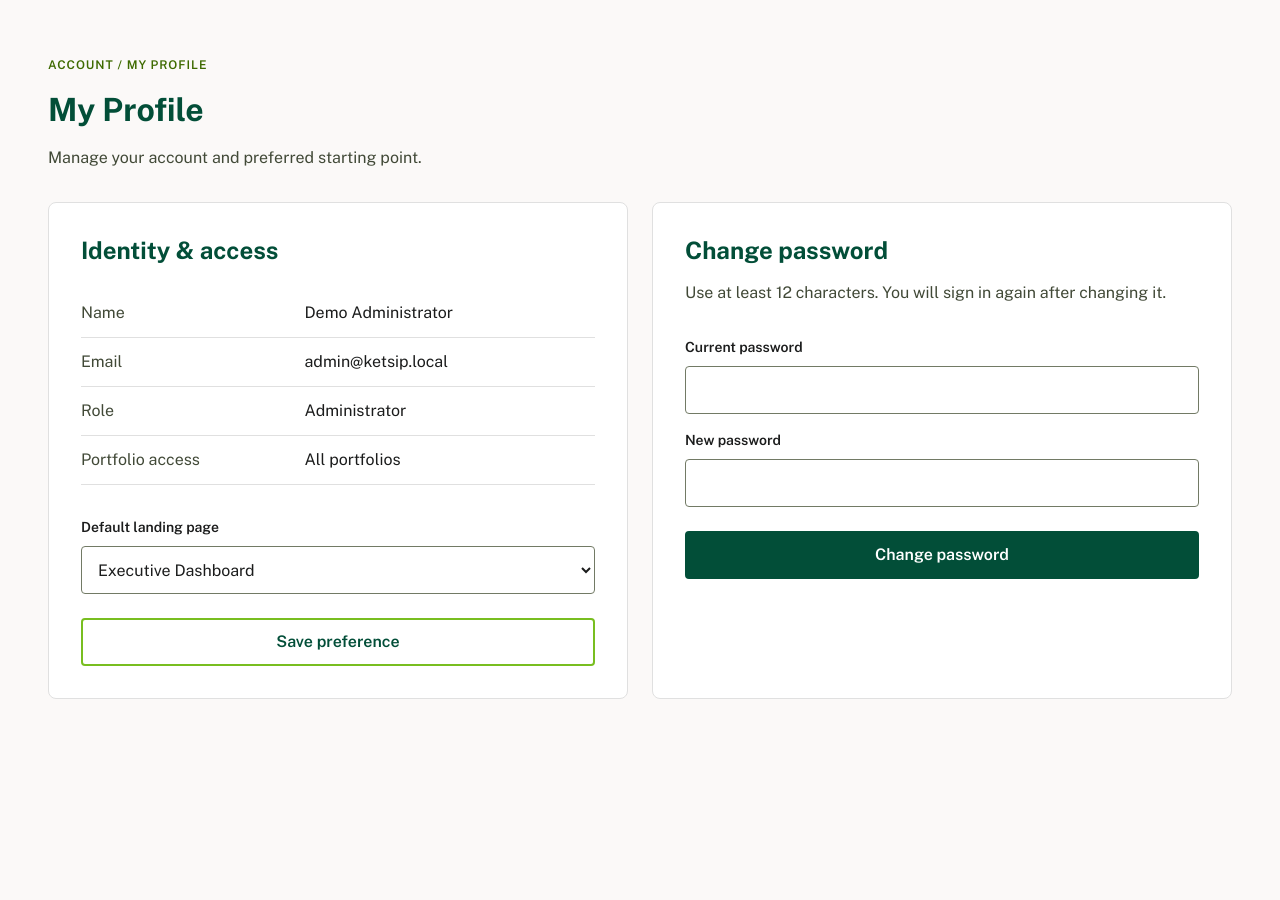
Test: identity screens › saves a landing preference and reports password errors
Select "Application Repository" in the dropdown labelled "Default landing page" at [338, 570], box [81,546,595,594]
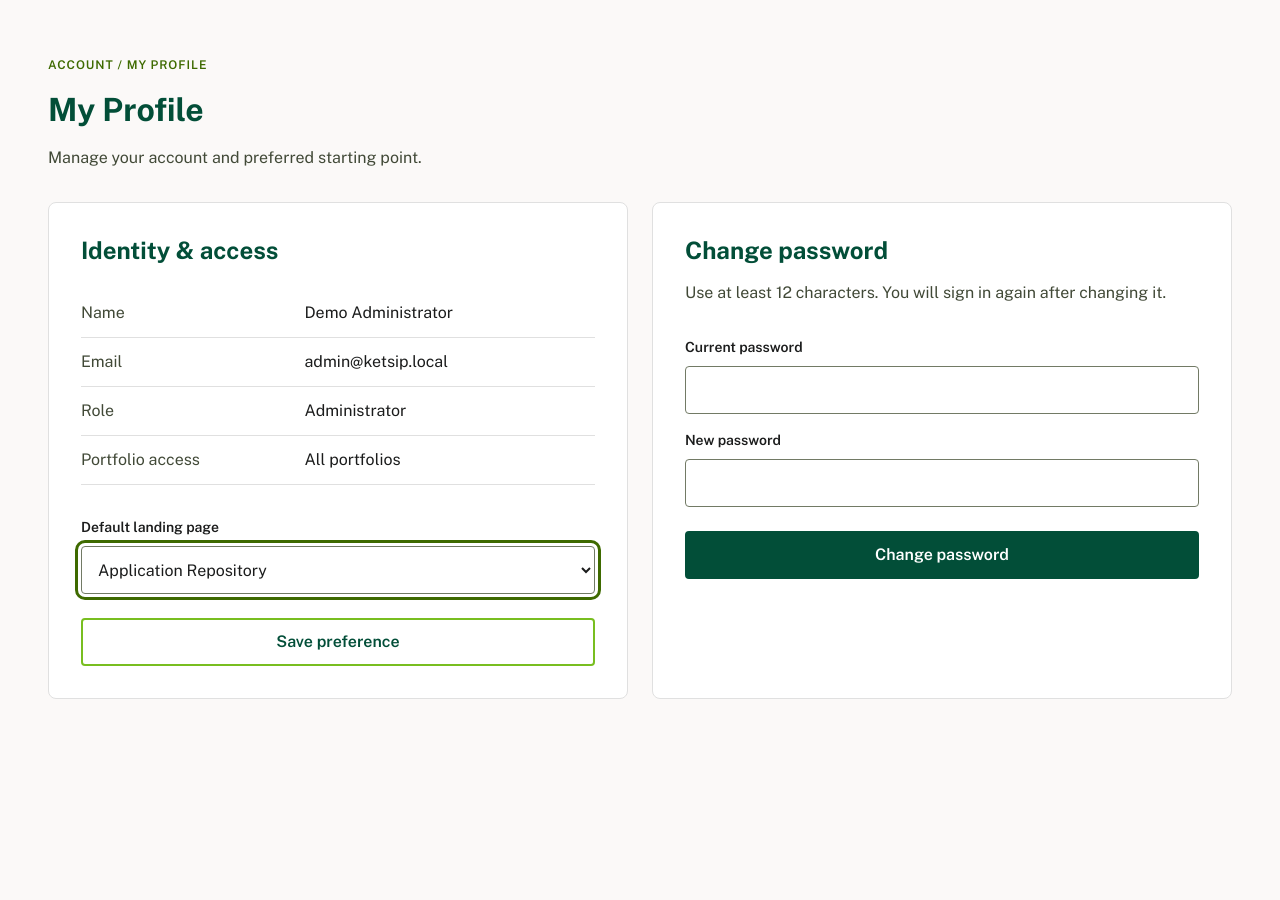
Click the button "Save preference" at [338, 642], box [81,618,595,666]
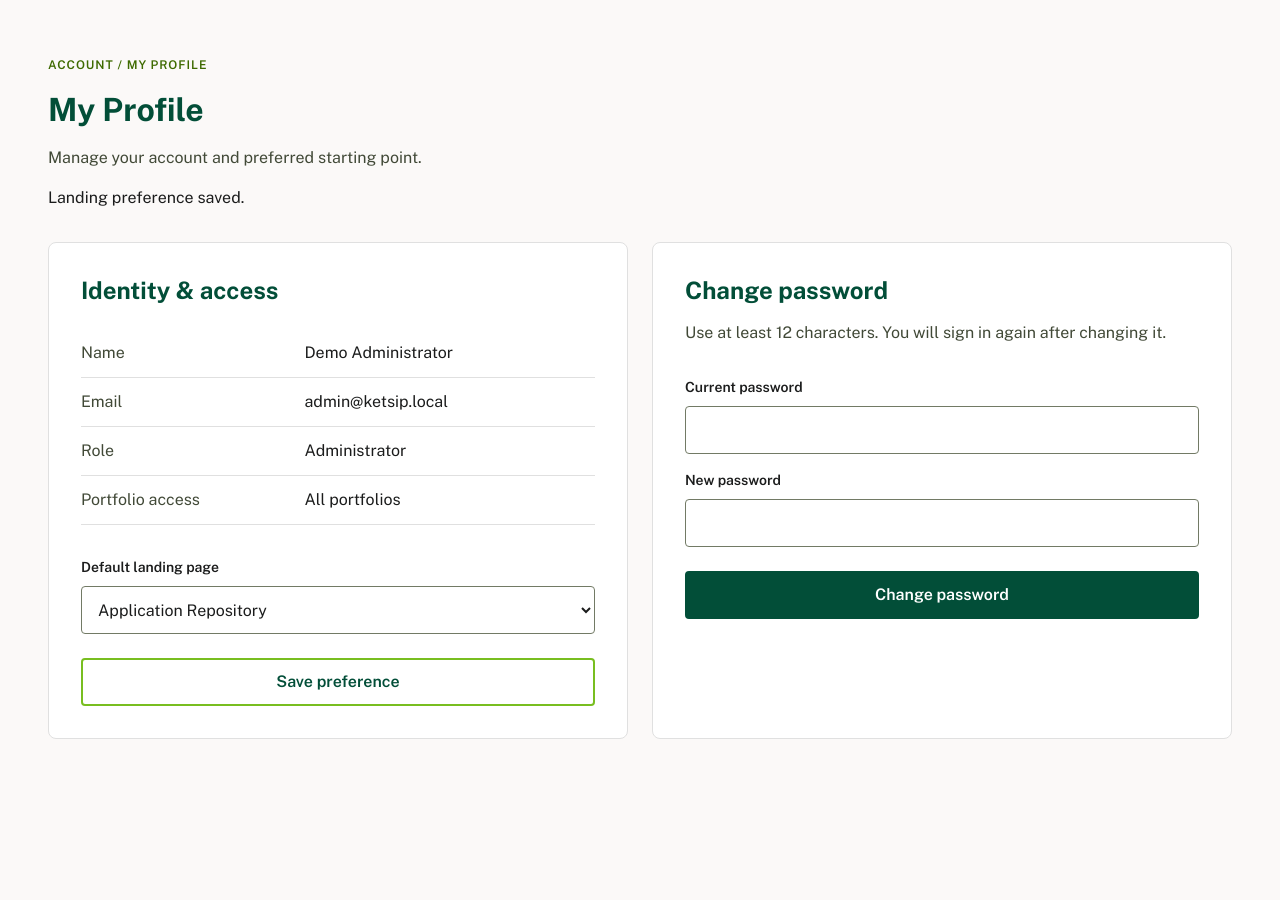
Expected: the message shows "Landing preference saved", [48,188,244,207]
Type "bad" into the password field labelled "Current password" at [942, 430], box [685,406,1199,454]
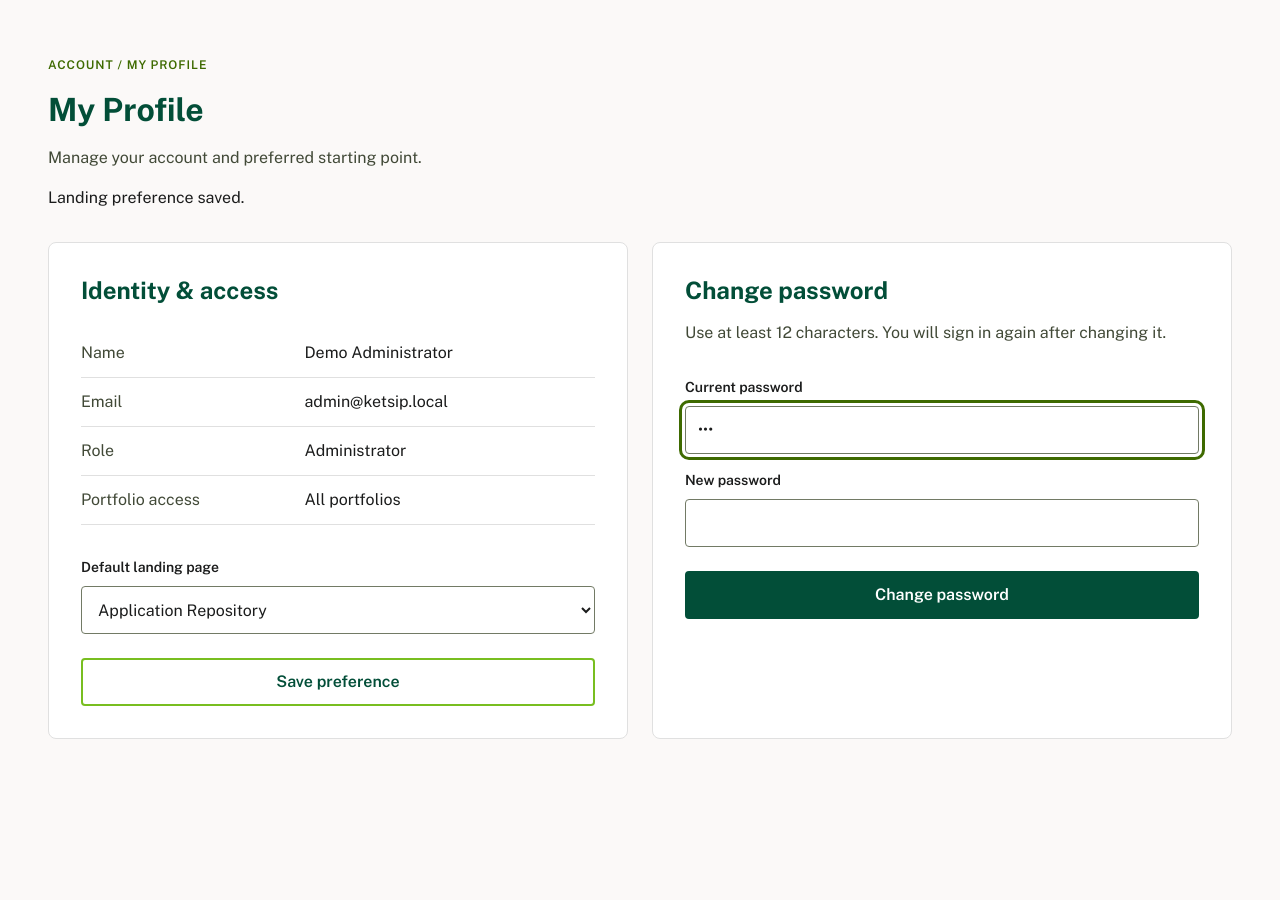
Type "NewPassword123!" into the password field labelled "New password" at [942, 523], box [685,499,1199,547]
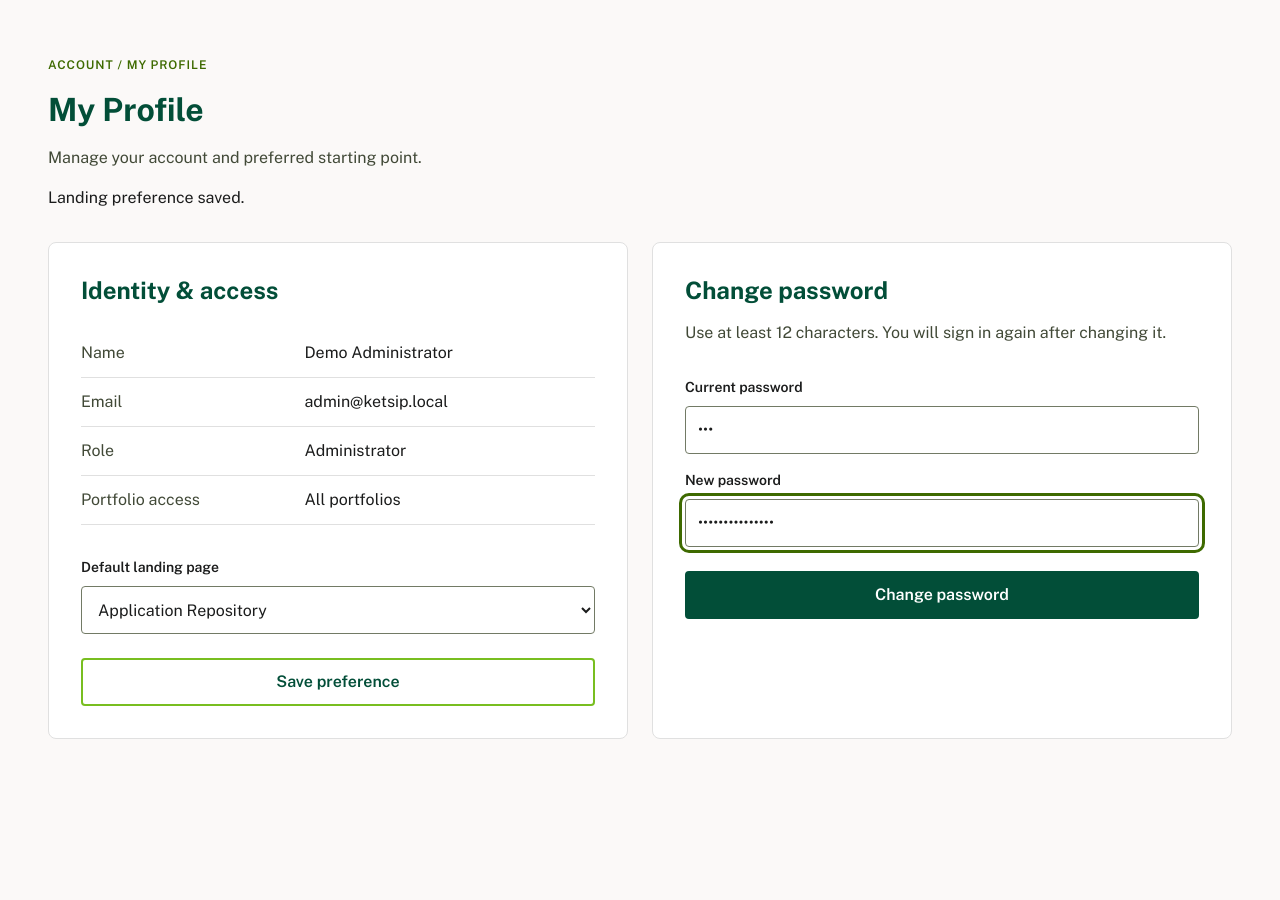
Click the button "Change password" at [942, 595], box [685,571,1199,619]
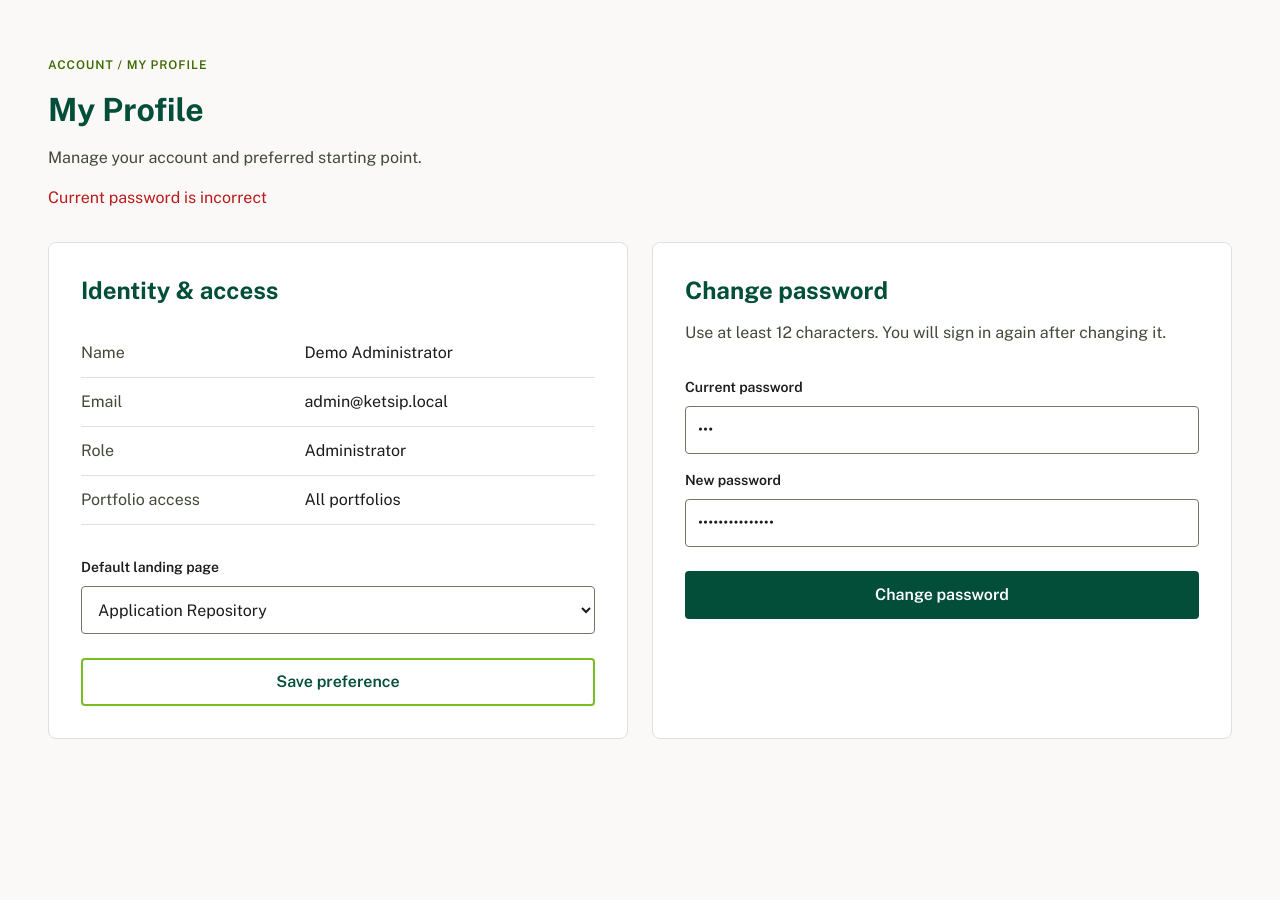
Expected: the message reads "Current password is incorrect", [48,188,267,207]
